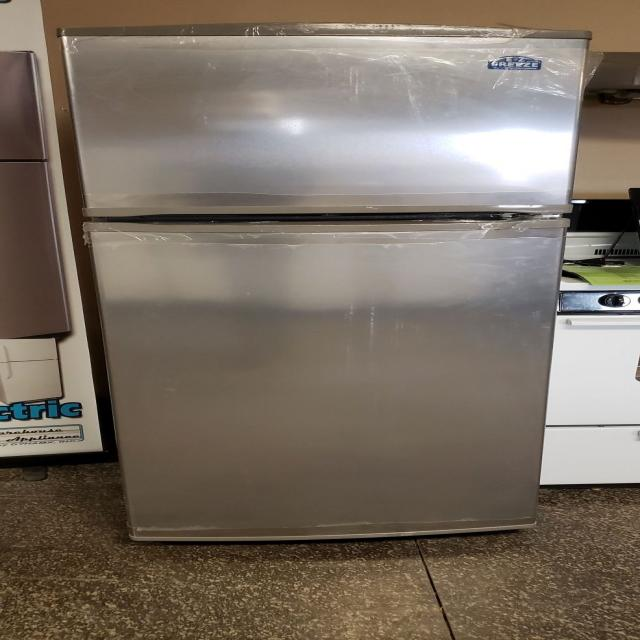refrigerator: (59, 24, 596, 542)
